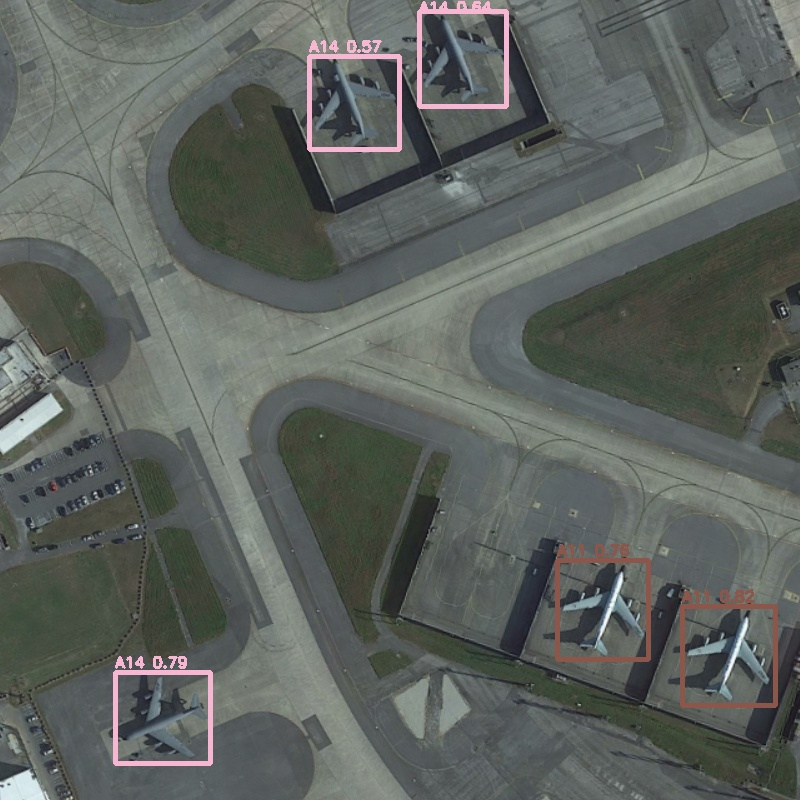A11: (682, 606, 775, 705), (557, 560, 648, 659)
A14: (115, 672, 210, 763), (309, 56, 399, 149), (419, 11, 506, 106)
